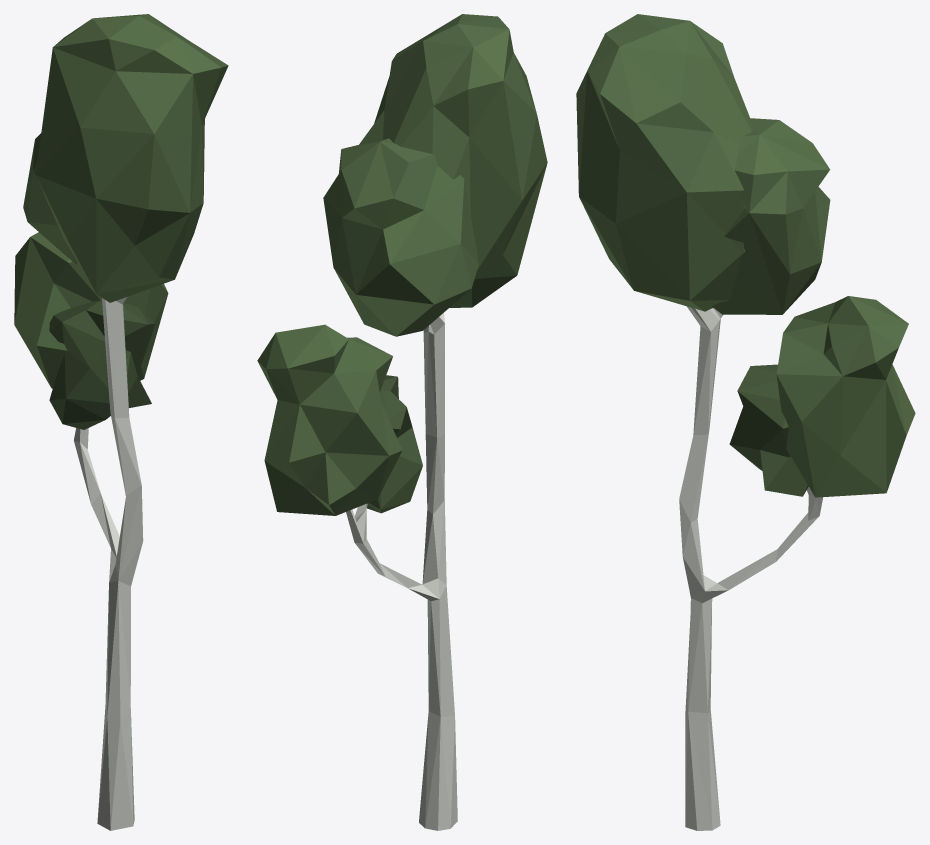
The model's file is BirchTree_5.lod2.glb.
3 views of the same model, side by side, from view 1: azimuth 30°, elevation 25°; view 2: azimuth 150°, elevation 25°; view 3: azimuth 270°, elevation 25° (orthographic). The views are drawn at different scales.
Visible parts, largest first — view 1: BirchTree_5; view 2: BirchTree_5; view 3: BirchTree_5.
Part boxes in pixels (x1=…): BirchTree_5: x1=14, y1=14, x2=228, y2=830; BirchTree_5: x1=257, y1=14, x2=547, y2=830; BirchTree_5: x1=576, y1=14, x2=915, y2=830.
Bounding box in the file's own units: 1.19 × 5 × 1.93.
